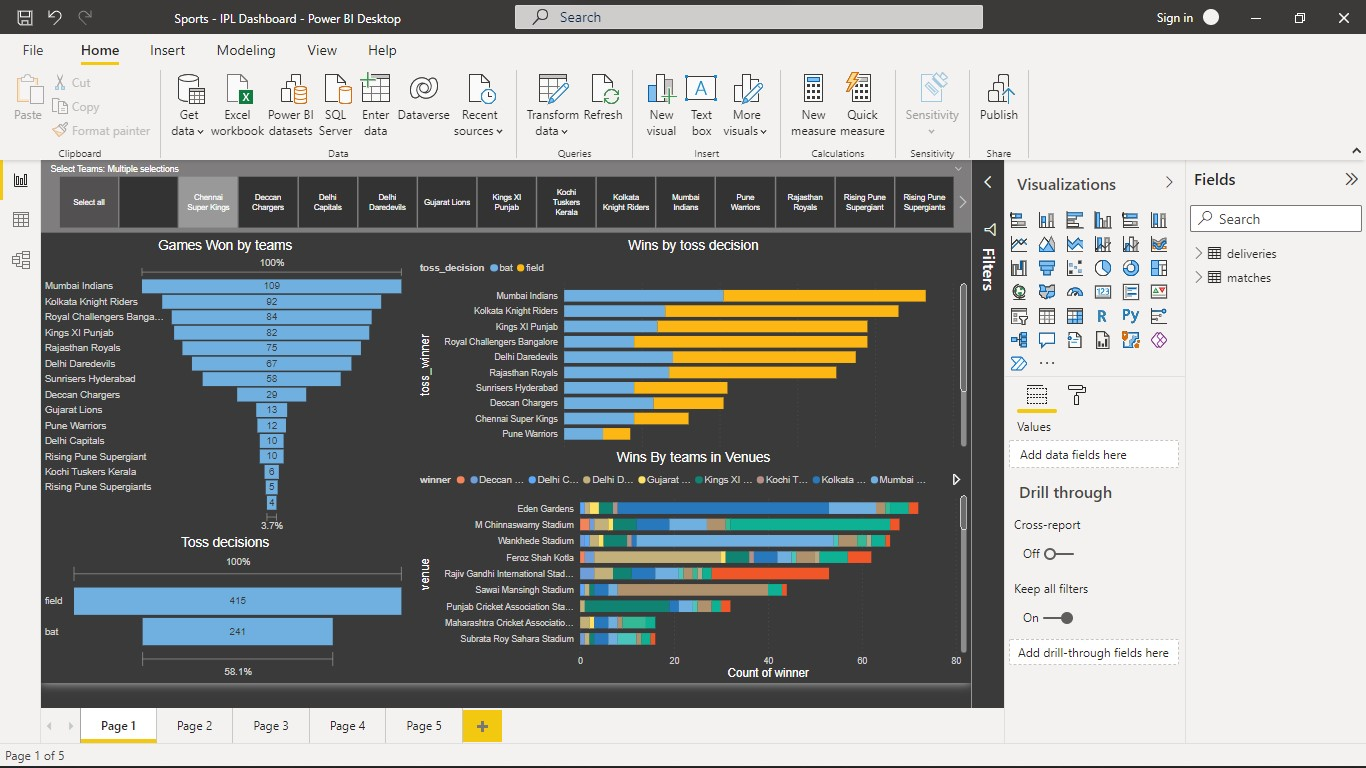

What the dashboard file says about the page in this screenshot:
{"tool":"powerbi","page":{"name":"Page 1","canvas":[1280,720],"ordinal":0},"visuals":[{"type":"funnel","title":"Games Won by teams","fields":{"Category":["matches.winner"],"Y":["Count(matches.date)"]},"box":[0,106.8,506.5,409.8],"z":0},{"type":"funnel","title":"Toss decisions","fields":{"Category":["matches.toss_decision"],"Y":["CountNonNull(matches.toss_winner)"]},"box":[0,516.6,506.5,203.4],"z":1000},{"type":"barChart","title":"Wins by toss decision","fields":{"Category":["matches.toss_winner"],"Y":["CountNonNull(matches.winner)"],"Series":["matches.toss_decision"]},"box":[516.6,106.8,763.3,327.5],"z":2000},{"type":"barChart","title":"Wins By teams in Venues","fields":{"Category":["matches.venue"],"Y":["CountNonNull(matches.winner)"],"Series":["matches.winner"]},"box":[516.6,399.7,763.3,320.3],"z":3000},{"type":"slicer","fields":{"Values":["matches.winner"]},"box":[0,0,1279.8,99.6],"z":4000}]}

Visuals, with their boxes on the page's 1280x720 design canvas (x1, y1, x2, y2). These are canvas units, not pixel positions in the 1366x768 screenshot, which may show the page scaled, cropped or inside an application window:
"Games Won by teams" funnel: {"x1": 0, "y1": 107, "x2": 506, "y2": 517}
"Toss decisions" funnel: {"x1": 0, "y1": 517, "x2": 506, "y2": 720}
"Wins by toss decision" barChart: {"x1": 517, "y1": 107, "x2": 1280, "y2": 434}
"Wins By teams in Venues" barChart: {"x1": 517, "y1": 400, "x2": 1280, "y2": 720}
slicer - matches.winner: {"x1": 0, "y1": 0, "x2": 1280, "y2": 100}
